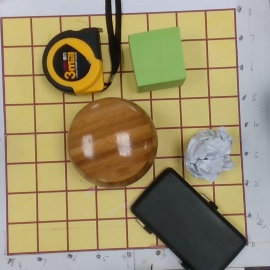chess: (69, 98, 157, 189)
